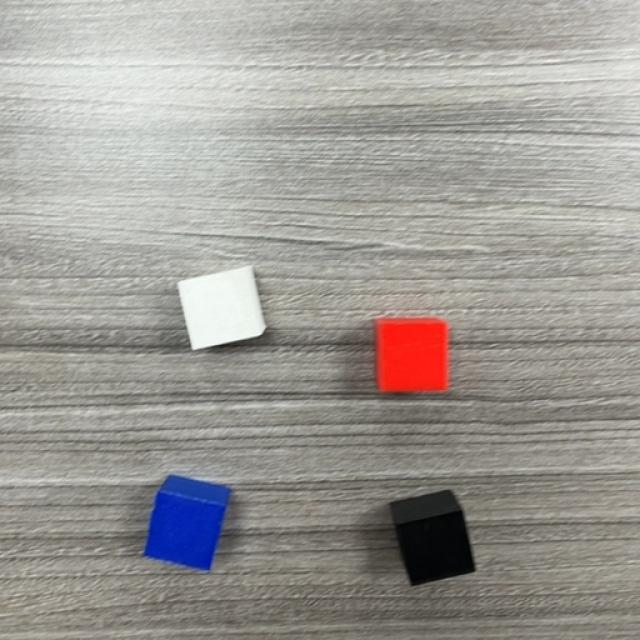Azul: (146, 490, 228, 569)
Blanco: (178, 265, 266, 351)
Negro: (389, 491, 475, 588)
Rojo: (377, 322, 448, 391)
